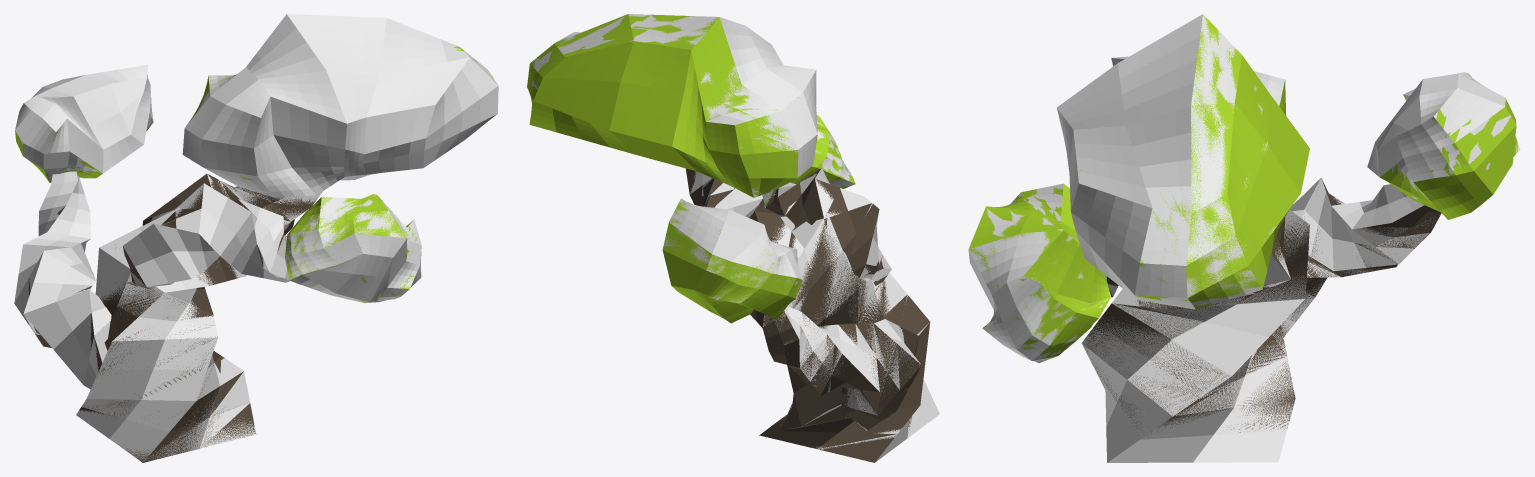
File: Bush.001.fbx
3 renders of one model, left to right at view 1: azimuth 30°, elevation 25°; view 2: azimuth 150°, elevation 25°; view 3: azimuth 270°, elevation 25°, orthographic. The views are drawn at different scales.
Parts seen in each view (by area): view 1: Cube, Plane, Plane.004, Plane.001, Cube.002, Plane.002, Cube.001; view 2: Plane.004, Cube, Plane, Cube.002, Plane.001, Plane.002, Cube.001; view 3: Plane.004, Cube, Plane, Cube.002, Cube.001, Plane.001.
Part boxes in pixels (left/top/right/bottom): Cube: left=182, top=14, right=498, bottom=197; Plane: left=76, top=174, right=322, bottom=461; Plane.004: left=15, top=46, right=492, bottom=462; Plane.001: left=14, top=171, right=111, bottom=389; Cube.002: left=15, top=64, right=153, bottom=182; Plane.002: left=123, top=183, right=300, bottom=289; Cube.001: left=285, top=193, right=421, bottom=303; Plane.004: left=527, top=14, right=930, bottom=462; Cube: left=528, top=14, right=817, bottom=197; Plane: left=690, top=171, right=939, bottom=462; Cube.002: left=663, top=198, right=803, bottom=302; Plane.001: left=762, top=306, right=920, bottom=430; Plane.002: left=770, top=168, right=891, bottom=293; Cube.001: left=762, top=115, right=855, bottom=207; Plane.004: left=969, top=14, right=1517, bottom=435; Cube: left=1057, top=14, right=1284, bottom=309; Plane: left=1081, top=209, right=1309, bottom=462; Cube.002: left=1367, top=72, right=1520, bottom=199; Cube.001: left=968, top=183, right=1110, bottom=362; Plane.001: left=1281, top=178, right=1440, bottom=336.
Bounding box in the file's own units: 752 × 632 × 643.
